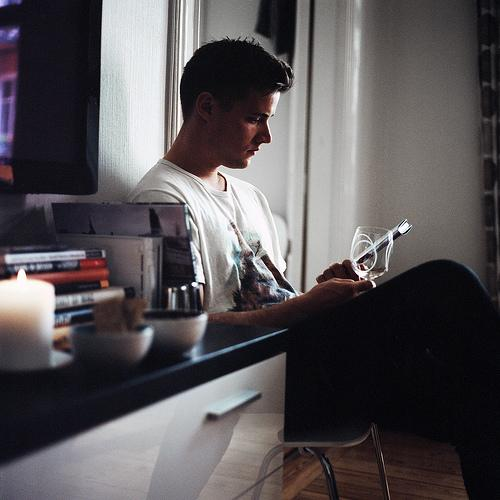person: (129, 38, 500, 500)
